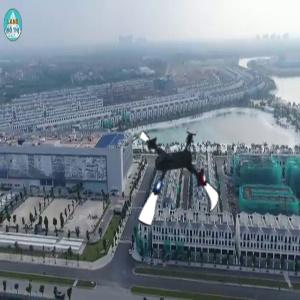drone: (121, 124, 232, 235)
